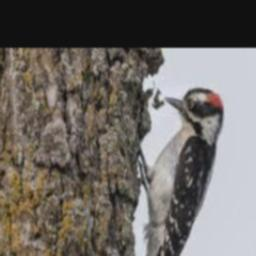Woodpecker: (138, 88, 225, 256)
